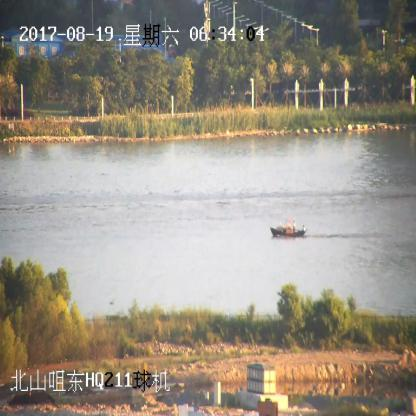Fishing Boat: (270, 218, 306, 238)
